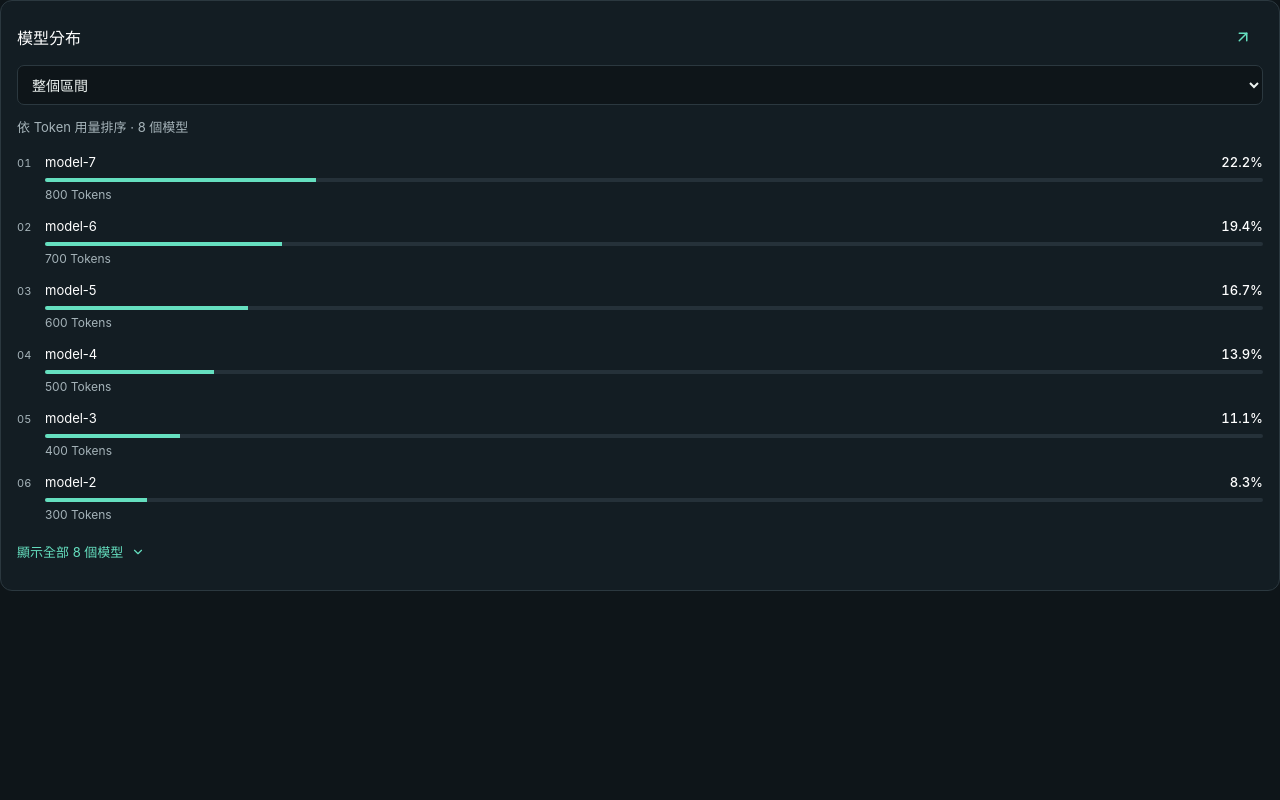
sorts models without mutating the source and discloses every model
Expected: the number of list items is 6, [17,154,1263,202]; [17,218,1263,266]; [17,282,1263,330]; [17,346,1263,394]; [17,410,1263,458]; [17,474,1263,522]
Expected: the list item "01 model-7 22.2% 800 Tokens" is shown, [17,154,1263,202]
Click the button "顯示全部 8 個模型" at (81, 552), box [17,530,145,574]
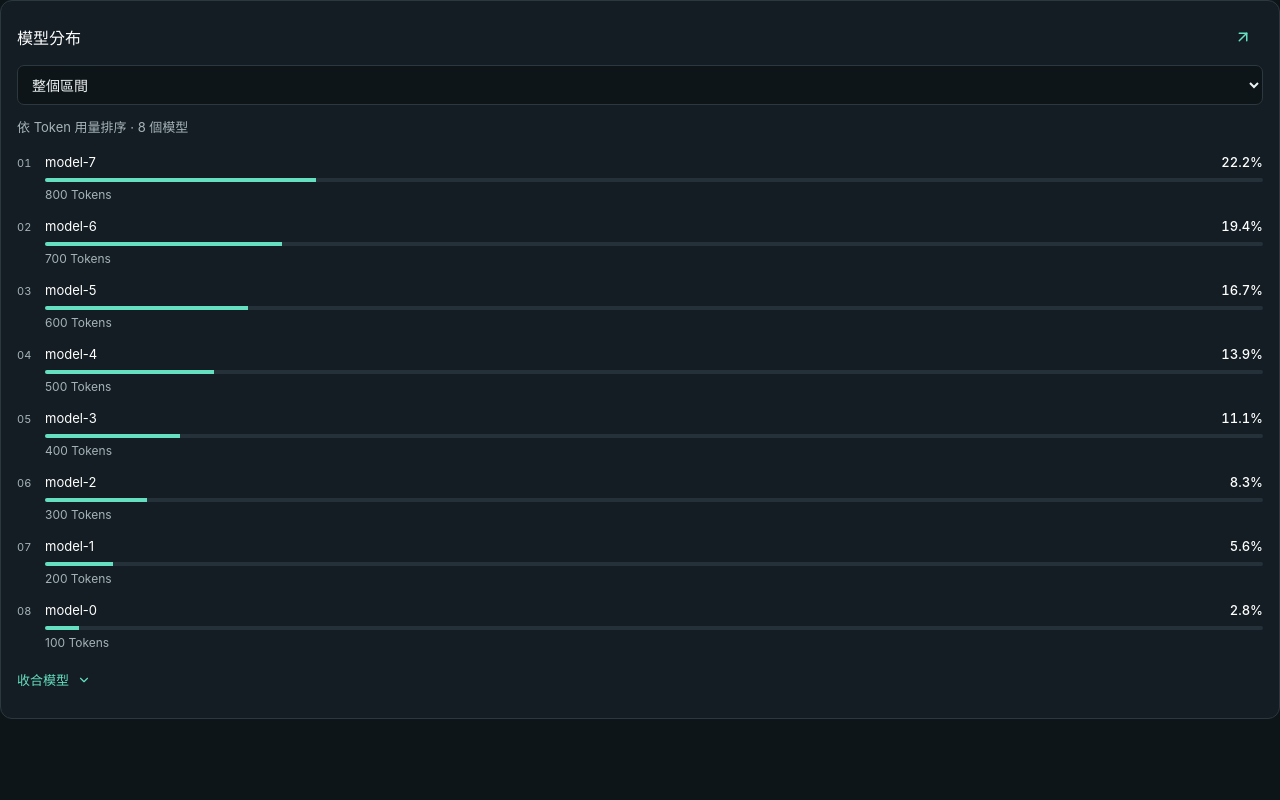
Expected: the number of list items is 8
Expected: the button "收合模型" is expanded, [17,658,91,702]
